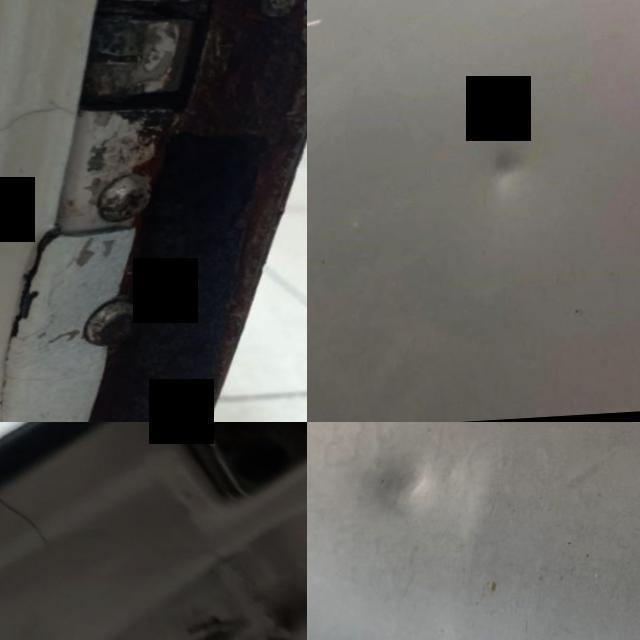Crack: (0, 475, 82, 585), (0, 72, 68, 174)
Dent: (346, 442, 448, 549), (479, 142, 524, 206)
